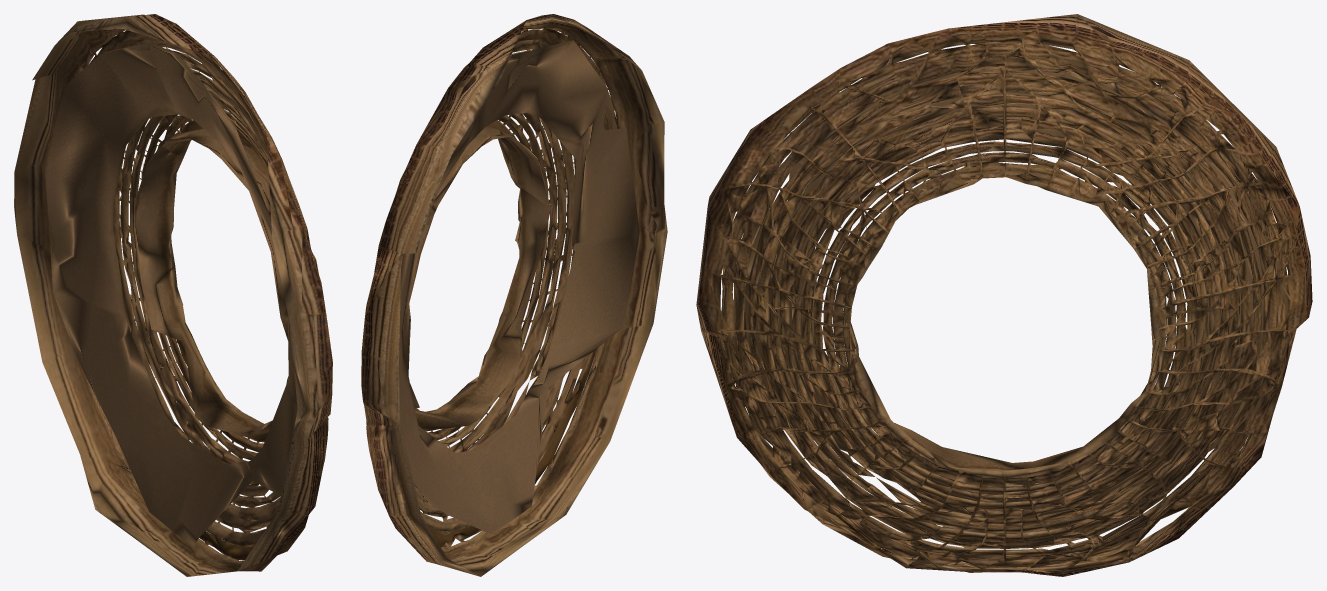
The model's file is art_ring_lod1.glb.
The picture shows the model from 3 angles, left to right: view 1: azimuth 30°, elevation 25°; view 2: azimuth 150°, elevation 25°; view 3: azimuth 270°, elevation 25°; orthographic projection. The views are drawn at different scales.
Visible parts, largest first — view 1: tripo_node_e8bf0414-7faf-4a59-957a-ba86b8dec961; view 2: tripo_node_e8bf0414-7faf-4a59-957a-ba86b8dec961; view 3: tripo_node_e8bf0414-7faf-4a59-957a-ba86b8dec961.
Boxes of the visible parts, box(x1,y1,x2,y2) form: tripo_node_e8bf0414-7faf-4a59-957a-ba86b8dec961: box(14, 14, 332, 576); tripo_node_e8bf0414-7faf-4a59-957a-ba86b8dec961: box(361, 14, 667, 576); tripo_node_e8bf0414-7faf-4a59-957a-ba86b8dec961: box(696, 14, 1312, 576).
Bounding box in the file's own units: 0.1101 × 0.5879 × 0.5936.
Materials: 1 (1 with a texture image).
